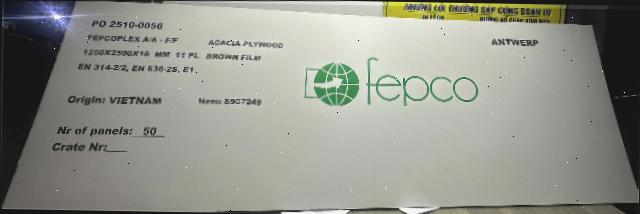box: (1, 0, 638, 212)
